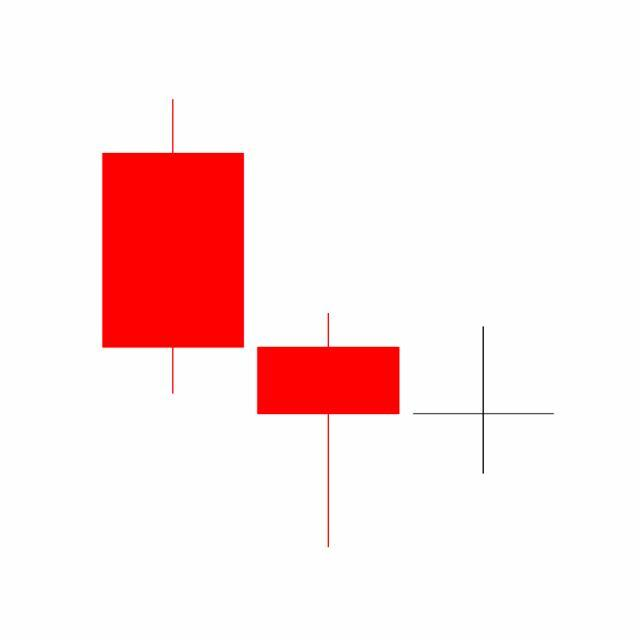Spinning Top: (406, 326, 562, 477)
